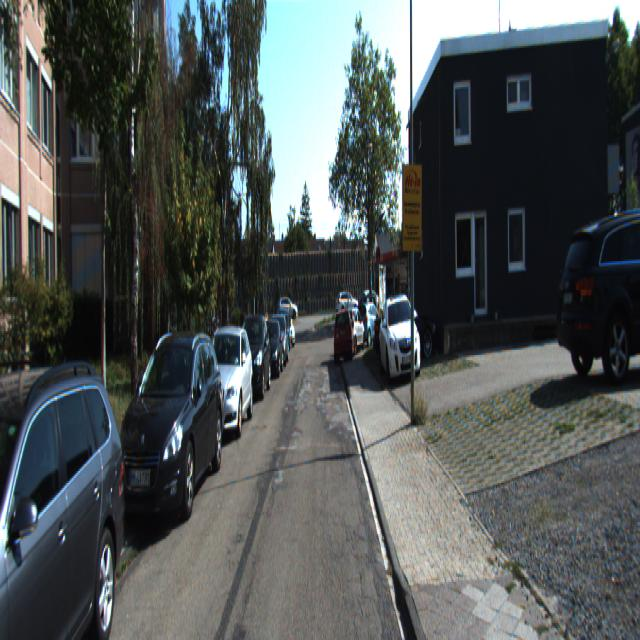Car: (0, 345, 133, 638), (108, 322, 225, 542), (553, 190, 639, 385), (195, 324, 254, 444), (374, 291, 438, 364), (378, 291, 422, 383), (234, 311, 272, 402), (260, 315, 285, 380), (354, 300, 382, 350), (333, 305, 355, 366), (266, 314, 288, 370), (633, 224, 639, 320), (335, 290, 358, 314), (277, 297, 296, 319)
